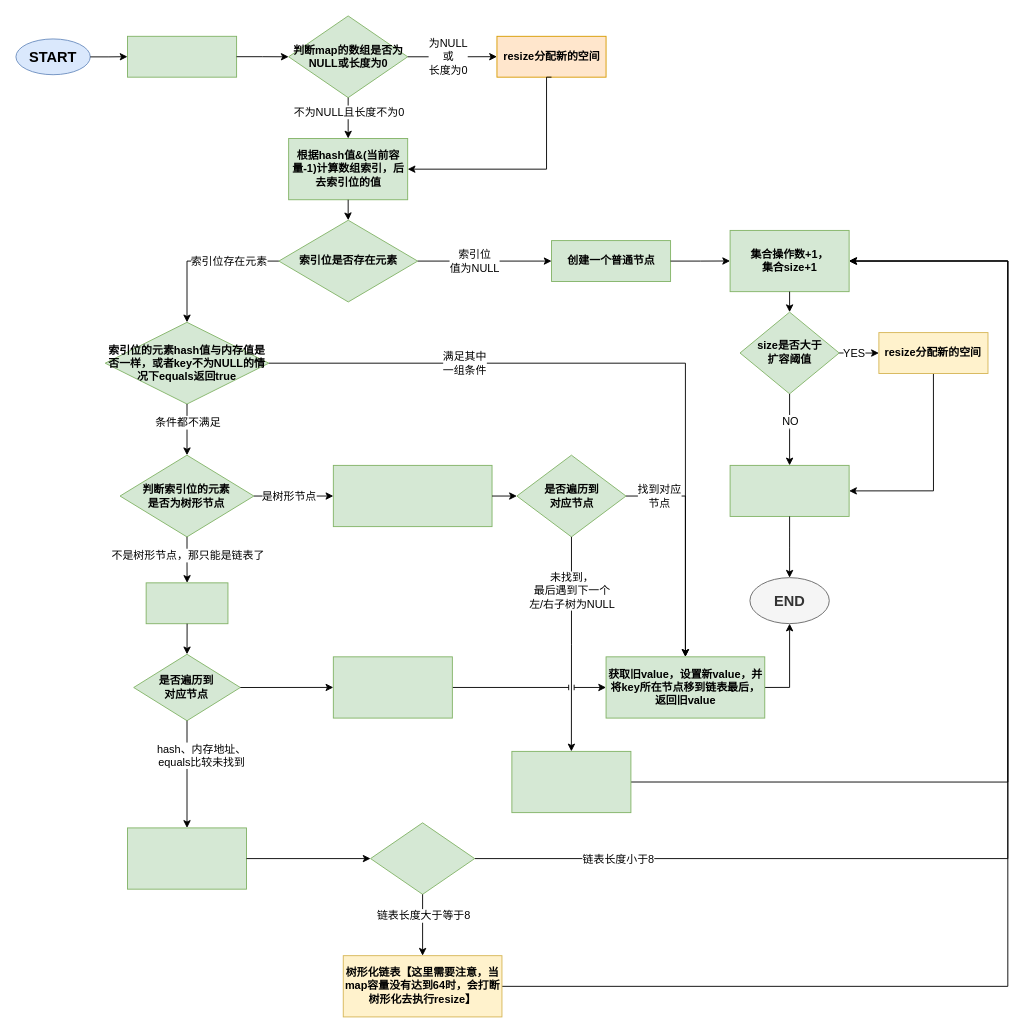
This 1031x1033 diagram has some shape labels left out. Each missing label, with the box of its shape:
LRU淘汰机制方法实现，正常不会生效，返回NULL: (729, 464, 849, 516)
找到对应节点: (332, 656, 452, 718)
新建一个普通节点，插入链表最后: (127, 827, 247, 889)
新建一个树形节点，并平衡树形分支，返回NULL: (511, 750, 631, 813)
计算key的hash值: (127, 35, 237, 77)
遍历树形节点，通过比较hash值、equals、内存地址判断节点是不是要找的key: (332, 464, 492, 527)
遍历链表: (145, 582, 228, 624)
链表大小是否 大于等于8: (370, 822, 475, 894)
